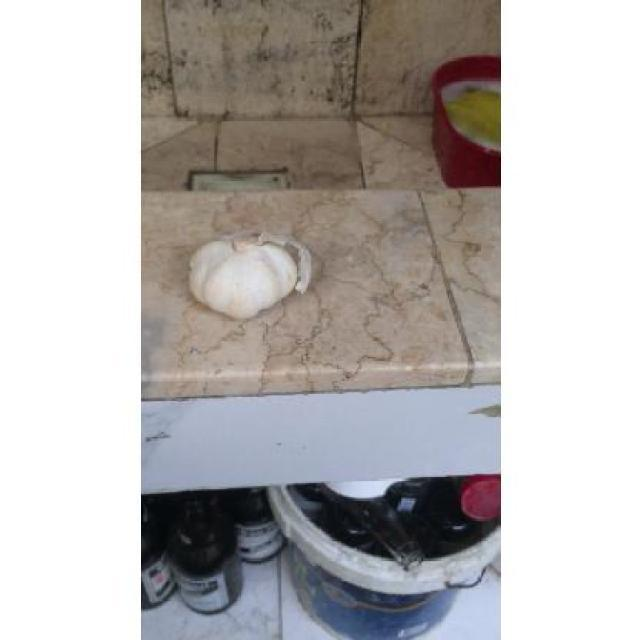garlic: (189, 236, 311, 318)
